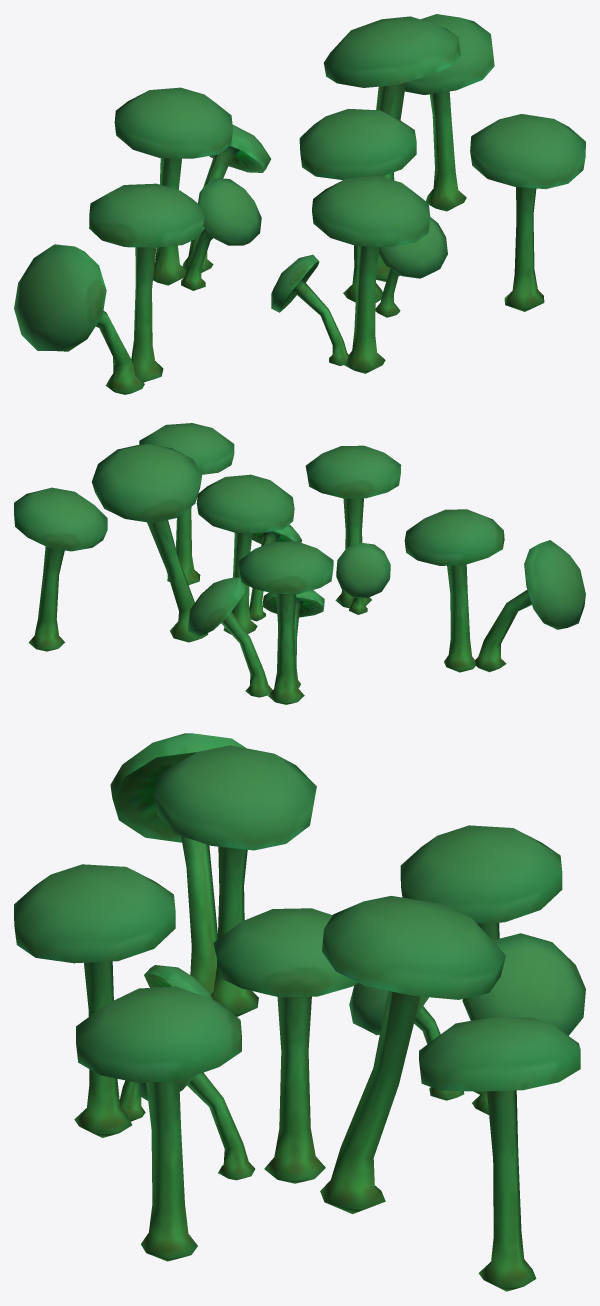
The model's file is Mushroom_03_Group_01.fbx.
3 views of the same model, one above another, from view 1: azimuth 30°, elevation 25°; view 2: azimuth 150°, elevation 25°; view 3: azimuth 270°, elevation 25° (orthographic). The views are drawn at different scales.
Visible parts, largest first — view 1: Mushroom_03_Group_01_LOD0; view 2: Mushroom_03_Group_01_LOD0; view 3: Mushroom_03_Group_01_LOD0.
Boxes of the visible parts, left/top/right/bottom form: Mushroom_03_Group_01_LOD0: left=14, top=14, right=585, bottom=394; Mushroom_03_Group_01_LOD0: left=14, top=423, right=585, bottom=704; Mushroom_03_Group_01_LOD0: left=14, top=733, right=585, bottom=1291.
Size of what is drawn, in the model's own units: 0.459 by 0.1808 by 0.2889.
